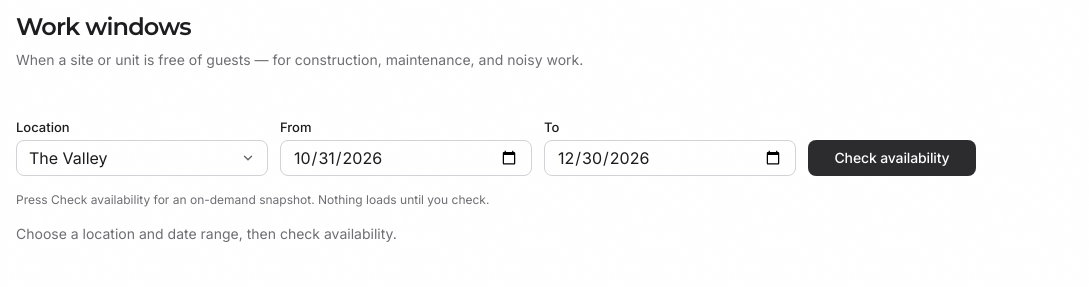
OpsWorkWindows › request error retains fields and shows a danger banner
Select "The Cabin" in the dropdown labelled "Location": (142, 158) [16, 140, 268, 176]
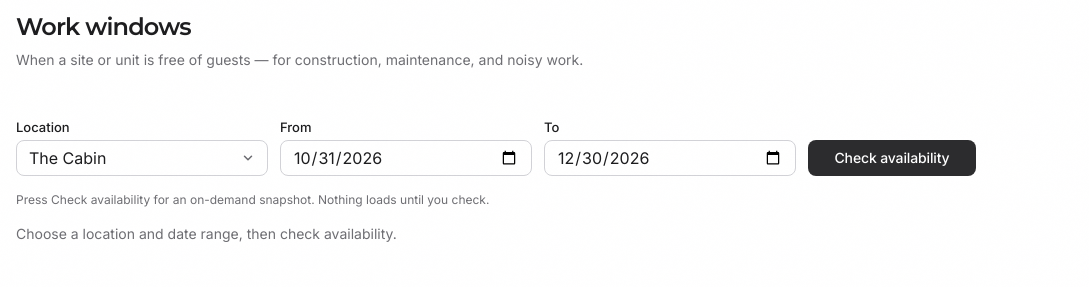
In the date field labelled "From": (406, 158) [280, 140, 532, 176], type "2026-09-01"
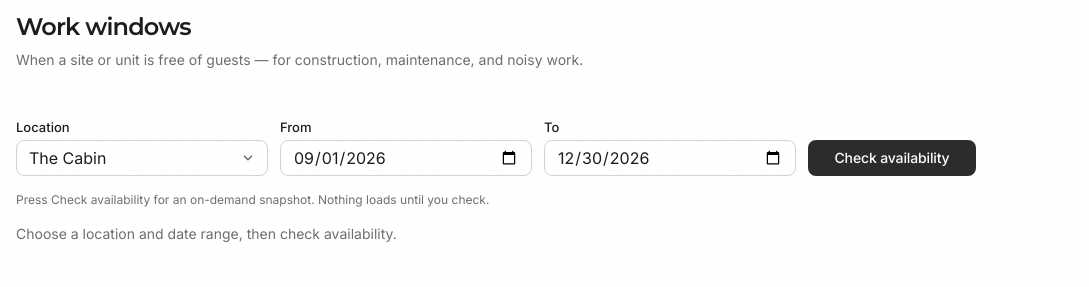
In the date field labelled "To": (670, 158) [544, 140, 796, 176], type "2026-09-20"
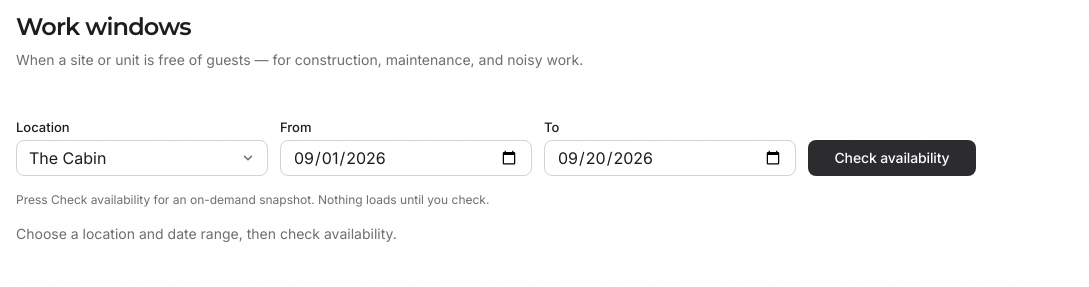
Click the button "Check availability": (892, 158) [808, 140, 976, 176]
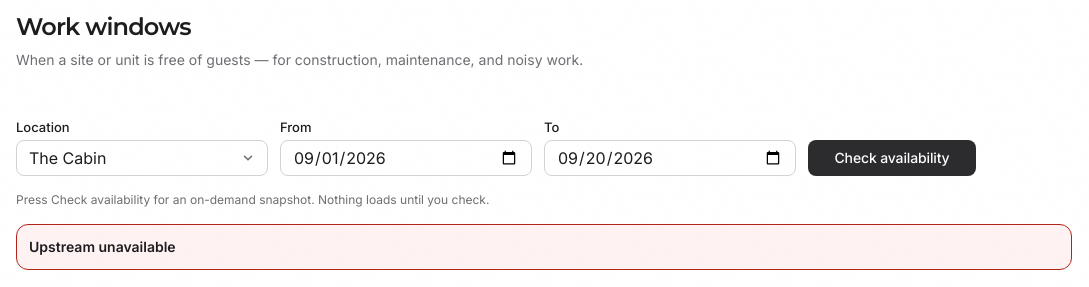
Expected: the message reads "Upstream unavailable", [29, 238, 176, 255]
